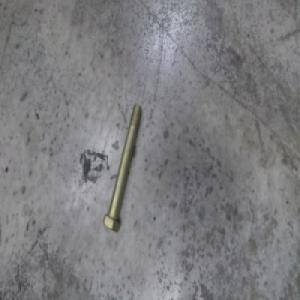Bolt: (102, 108, 142, 236)
